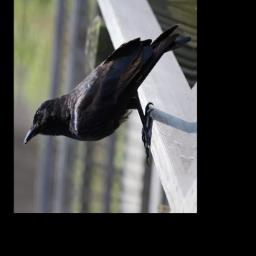Crow: (23, 0, 192, 174)
